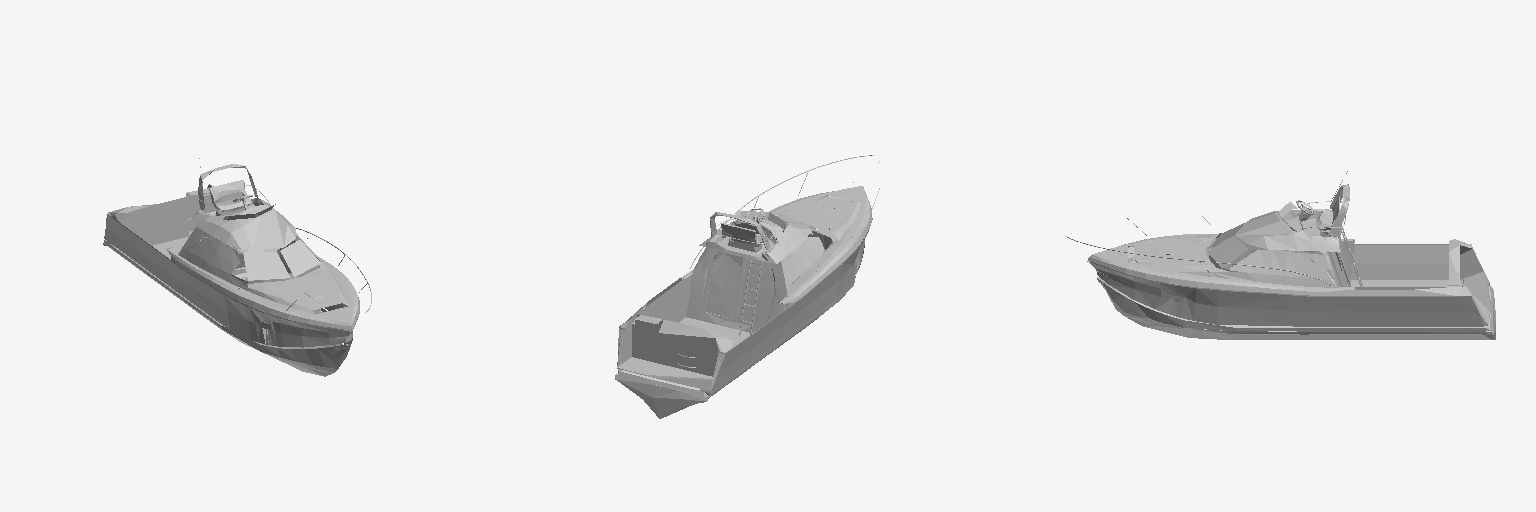
Rendered from Yacht.obj.
The picture shows the model from 3 angles: view 1: azimuth 30°, elevation 25°; view 2: azimuth 150°, elevation 25°; view 3: azimuth 270°, elevation 25°; orthographic projection.
Visible parts, largest first — view 1: Retopo_Yacht_Ref; view 2: Retopo_Yacht_Ref; view 3: Retopo_Yacht_Ref.
Part boxes in pixels (x1,y1,x2,y2): Retopo_Yacht_Ref: (103,158,371,376); Retopo_Yacht_Ref: (615,155,879,418); Retopo_Yacht_Ref: (1065,171,1495,339).
Size of the model in its own units: 2.26 by 3.39 by 7.89.